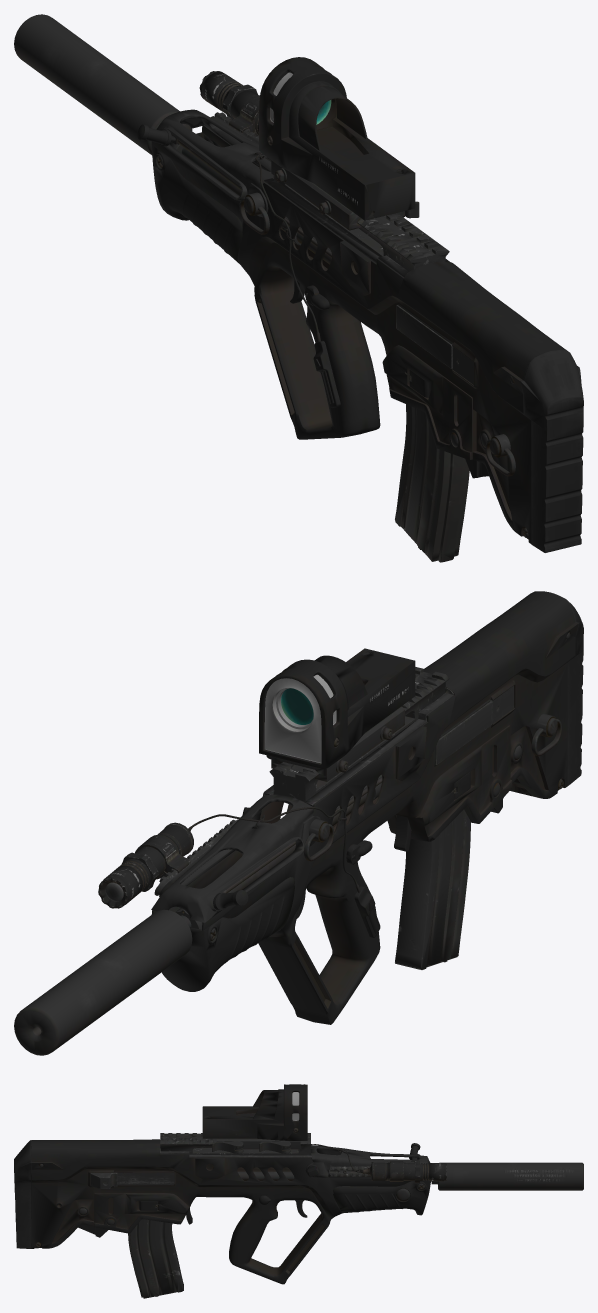
File: tavor.glb
3 views of the same model, one above another, from view 1: azimuth 30°, elevation 25°; view 2: azimuth 150°, elevation 25°; view 3: azimuth 270°, elevation 25° (orthographic). The views are drawn at different scales.
Parts seen in each view (by area): view 1: poly68_low, poly56_low, poly29_low, poly14_low, poly6_low, poly54_low, poly25_low, poly53_low, poly9_low, poly32_low, poly47_low, poly33_low (+3 smaller); view 2: poly68_low, poly56_low, poly14_low, poly6_low, poly54_low, poly25_low, poly53_low, poly29_low, poly47_low, poly9_low, poly33_low, poly32_low (+5 smaller); view 3: poly68_low, poly56_low, poly14_low, poly6_low, poly25_low, poly29_low, poly54_low, poly53_low, poly47_low, poly20_low, poly33_low, poly9_low (+6 smaller).
Part boxes in pixels (x1,y1,x2,y2): poly68_low: (151, 125, 578, 543); poly56_low: (259, 57, 415, 220); poly29_low: (520, 350, 583, 552); poly14_low: (14, 14, 192, 155); poly6_low: (395, 404, 469, 562); poly54_low: (156, 109, 273, 217); poly25_low: (151, 132, 286, 262); poly53_low: (273, 175, 449, 271); poly9_low: (271, 160, 404, 230); poly32_low: (396, 305, 452, 368); poly47_low: (202, 72, 258, 134); poly33_low: (264, 178, 448, 277); poly68_low: (151, 592, 578, 1024); poly56_low: (259, 648, 415, 769); poly14_low: (14, 909, 192, 1055); poly6_low: (395, 809, 470, 969); poly54_low: (151, 794, 320, 922); poly25_low: (162, 877, 294, 991); poly53_low: (269, 667, 449, 806); poly29_low: (530, 591, 583, 785); poly47_low: (103, 822, 193, 904); poly9_low: (271, 706, 404, 781); poly33_low: (264, 687, 453, 806); poly32_low: (435, 701, 491, 764); poly68_low: (31, 1139, 430, 1284); poly56_low: (202, 1084, 307, 1140); poly14_low: (431, 1162, 583, 1190); poly6_low: (128, 1219, 183, 1298); poly25_low: (333, 1181, 430, 1215); poly29_low: (14, 1140, 31, 1248); poly54_low: (305, 1145, 430, 1177); poly53_low: (160, 1133, 310, 1154); poly47_low: (362, 1162, 444, 1181); poly20_low: (117, 1172, 174, 1185); poly33_low: (160, 1144, 311, 1158); poly9_low: (216, 1138, 300, 1149).
Bounding box in the file's own units: 0.0709 × 0.2147 × 0.5293.
Materials: 3 (3 with a texture image).
